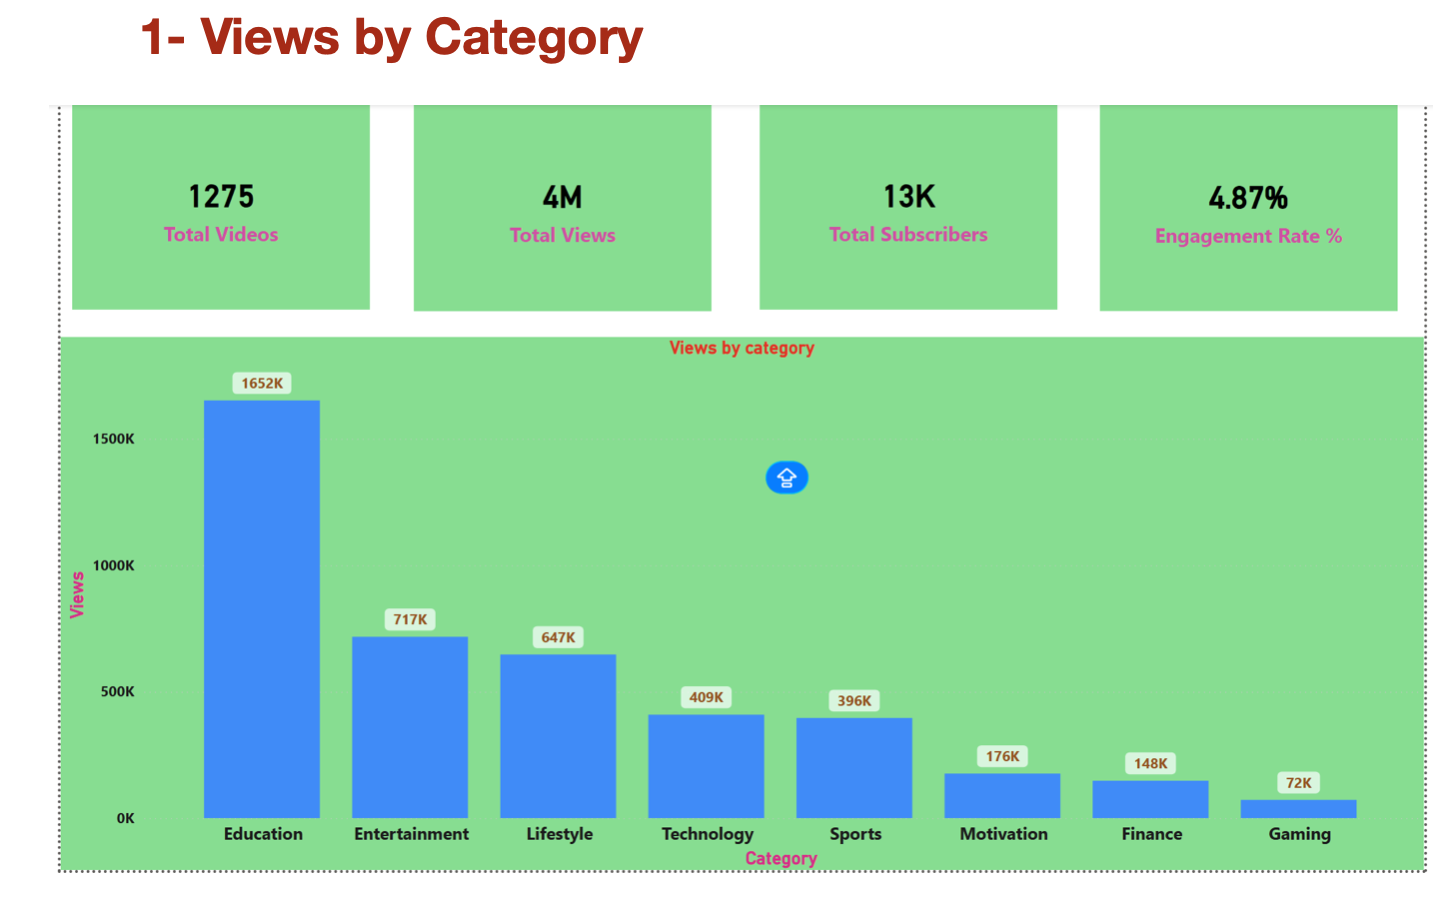

Layout of this report page (visuals, bound fields, positions):
{"tool":"powerbi","page":{"name":"Page 1","canvas":[1280,720],"ordinal":0},"visuals":[{"type":"card","fields":{"Values":["youtube_videos.Total Videos"]},"box":[10.3,0,279.4,193.6],"z":0},{"type":"card","fields":{"Values":["youtube_videos.Total Views"]},"box":[331.1,0,279.4,195.1],"z":1000},{"type":"card","fields":{"Values":["youtube_videos.Total Subscribers"]},"box":[656.3,0,279.4,193.6],"z":2000},{"type":"card","fields":{"Values":["youtube_videos.Engagement Rate %"]},"box":[975.5,1.5,279.4,193.6],"z":3000},{"type":"lineClusteredColumnComboChart","title":"Views by category","fields":{"Category":["youtube_videos.category"],"Y":["Sum(youtube_videos.views)"]},"box":[0,218.8,1280,504],"z":4000}]}

Visuals, with their boxes on the page's 1280x720 design canvas (x1, y1, x2, y2). These are canvas units, not pixel positions in the 1452x900 screenshot, which may show the page scaled, cropped or inside an application window:
card - youtube_videos.Total Videos: 10,0,290,194
card - youtube_videos.Total Views: 331,0,610,195
card - youtube_videos.Total Subscribers: 656,0,936,194
card - youtube_videos.Engagement Rate %: 976,2,1255,195
"Views by category" lineClusteredColumnComboChart: 0,219,1280,723
